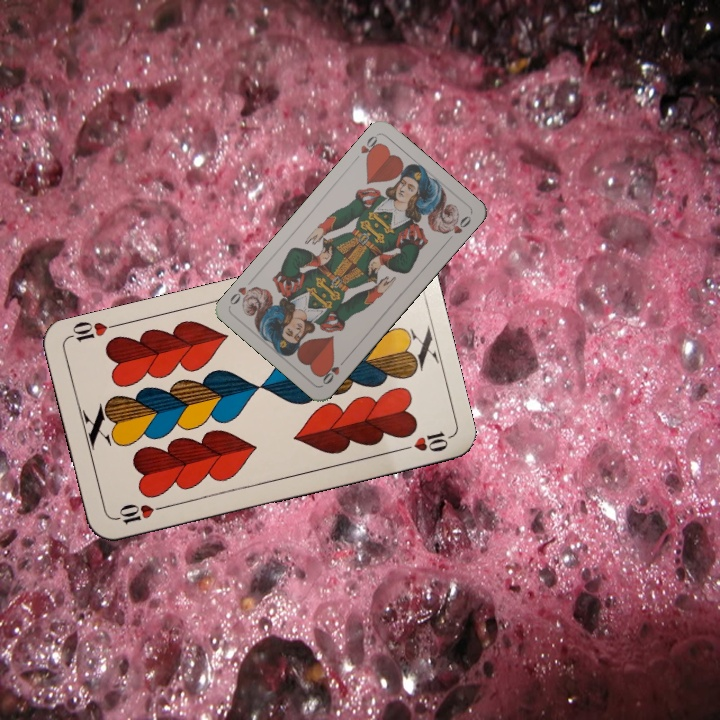H10: (111, 500, 169, 527)
HO: (349, 131, 384, 165), (317, 354, 349, 387)
